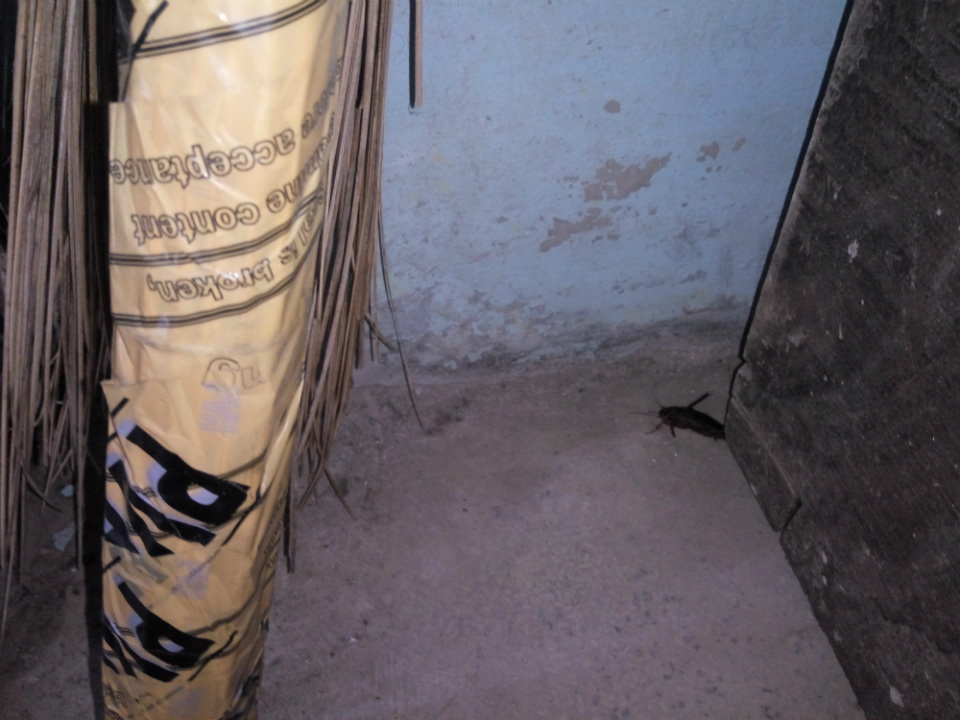cockroach: (632, 369, 727, 452)
